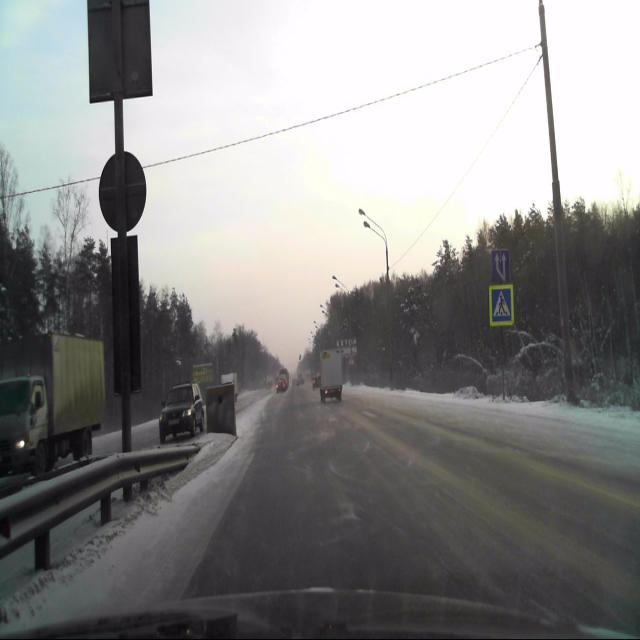object: (500, 328, 506, 402)
road sign: (490, 285, 512, 323), (492, 250, 509, 283)
